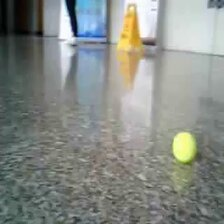tennis: (172, 131, 198, 163)
